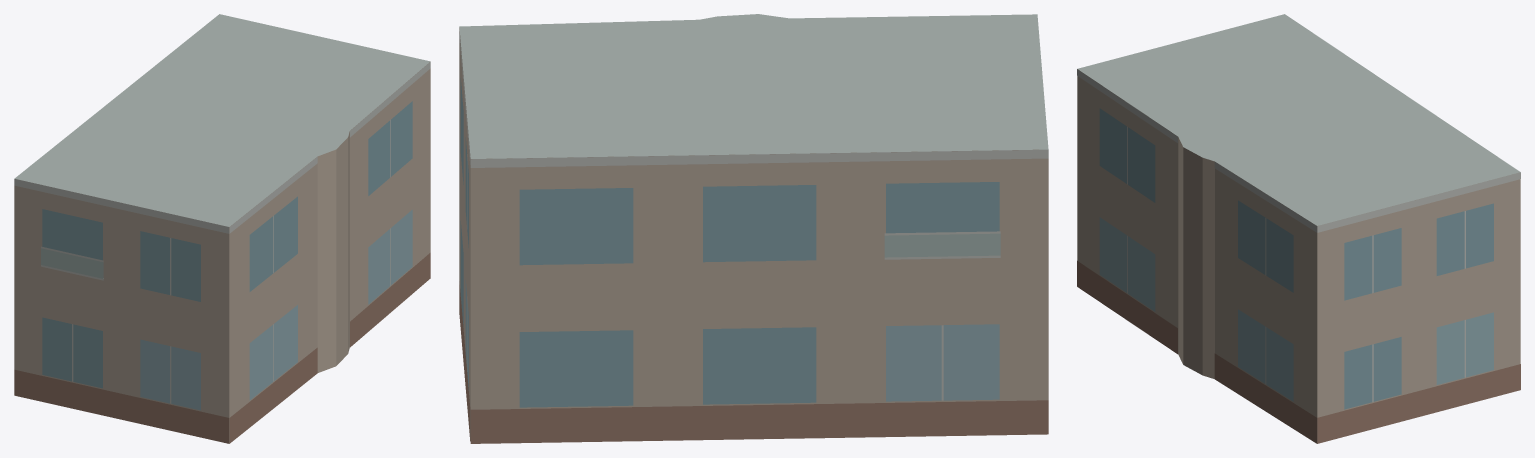
File: survey-upis-32625337.glb
3 views of the same model, side by side, from view 1: azimuth 30°, elevation 25°; view 2: azimuth 150°, elevation 25°; view 3: azimuth 270°, elevation 25° (orthographic). The views are drawn at different scales.
Visible parts, largest first — view 1: survey-upis-32625337.tmp; view 2: survey-upis-32625337.tmp; view 3: survey-upis-32625337.tmp.
Boxes of the visible parts, left/top/right/bottom form: survey-upis-32625337.tmp: left=14, top=14, right=430, bottom=443; survey-upis-32625337.tmp: left=459, top=14, right=1048, bottom=443; survey-upis-32625337.tmp: left=1077, top=14, right=1520, bottom=443.
Bounding box in the file's own units: 16.08 × 7.7 × 14.22.
